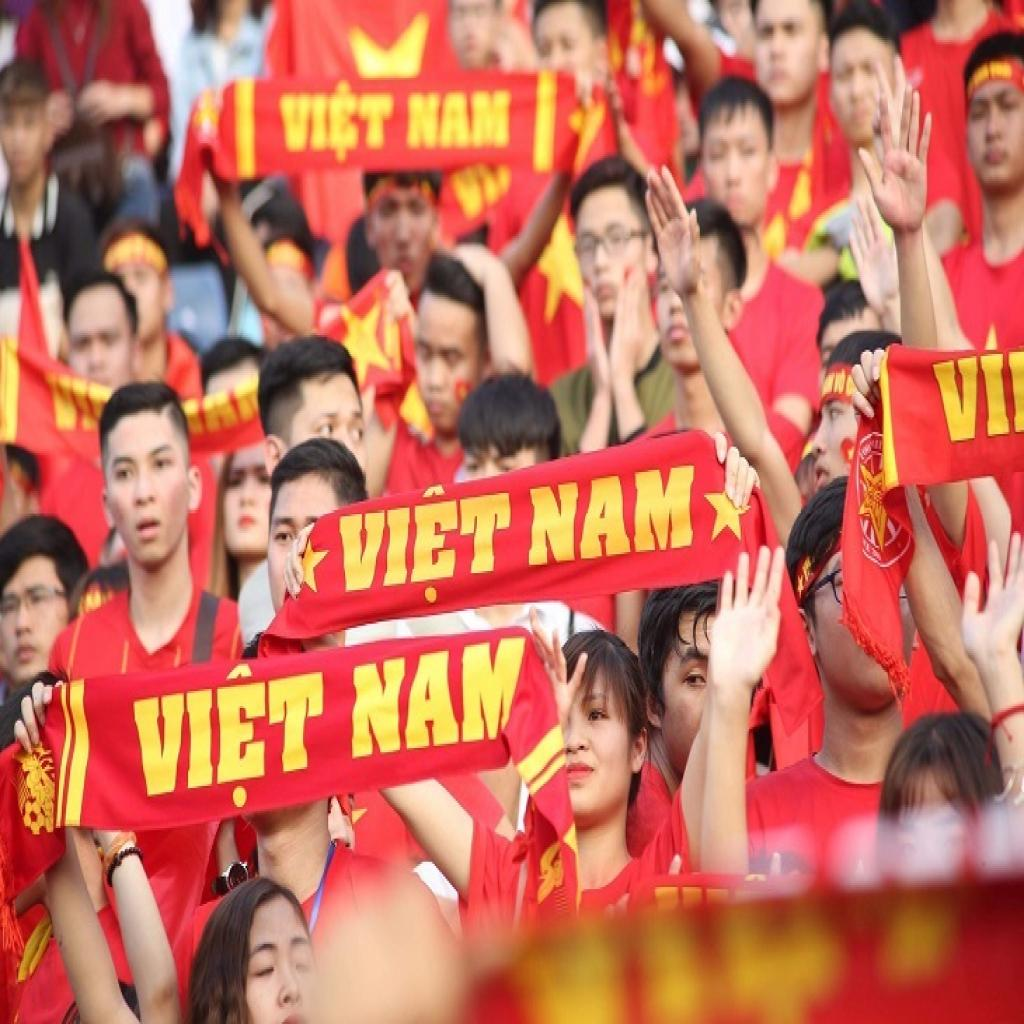text: (126, 649, 334, 820), (334, 472, 515, 619), (519, 451, 699, 571), (274, 80, 400, 169), (923, 345, 1011, 451), (404, 92, 513, 152)
